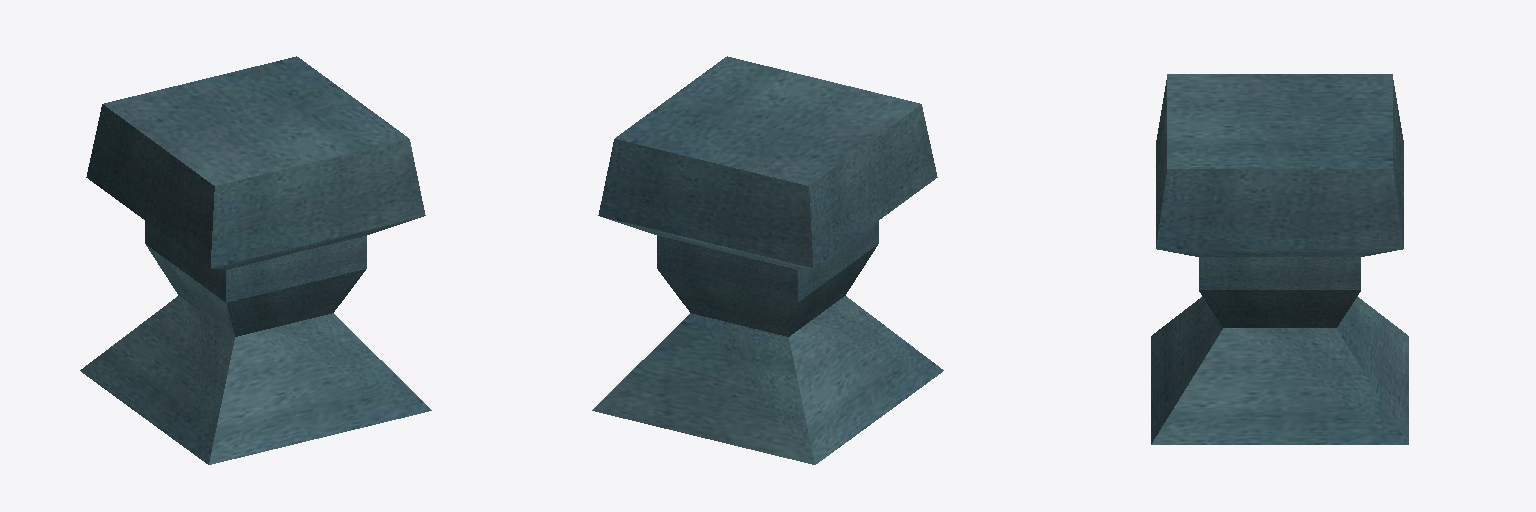
3 renders of one model, left to right at view 1: azimuth 30°, elevation 25°; view 2: azimuth 150°, elevation 25°; view 3: azimuth 270°, elevation 25°, orthographic.
Visible parts, largest first — view 1: Cube_Cube.001; view 2: Cube_Cube.001; view 3: Cube_Cube.001.
Boxes of the visible parts, x1=… form: Cube_Cube.001: x1=80, y1=56, x2=431, y2=464; Cube_Cube.001: x1=592, y1=56, x2=943, y2=464; Cube_Cube.001: x1=1151, y1=74, x2=1408, y2=444.
Size of the model in its own units: 1.19 by 1.37 by 1.19.
Materials: 1 (1 with a texture image).